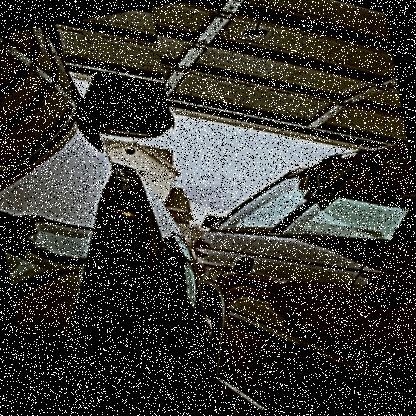Car: (0, 7, 224, 415), (175, 141, 415, 415)
